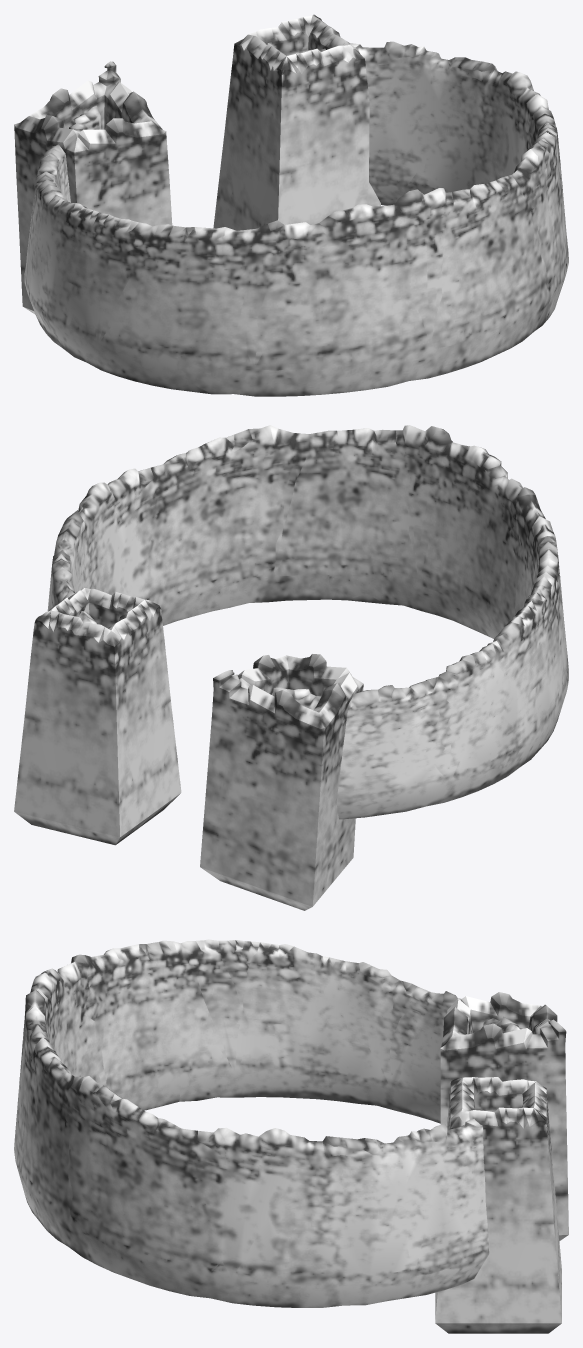
Rendered from Ruins_Tower02 1.fbx.
The picture shows the model from 3 angles, top to bottom: view 1: azimuth 30°, elevation 25°; view 2: azimuth 150°, elevation 25°; view 3: azimuth 270°, elevation 25°; orthographic projection. The views are drawn at different scales.
Visible parts, largest first — view 1: Ruins_Tower02_1, bridgetower009, bridgetower008; view 2: Ruins_Tower02_1, bridgetower009, bridgetower008; view 3: Ruins_Tower02_1, bridgetower009, bridgetower008.
Boxes of the visible parts, x1=… form: Ruins_Tower02_1: x1=24, y1=41, x2=568, y2=396; bridgetower009: x1=213, y1=14, x2=380, y2=230; bridgetower008: x1=14, y1=61, x2=172, y2=314; Ruins_Tower02_1: x1=47, y1=425, x2=568, y2=819; bridgetower009: x1=14, y1=587, x2=181, y2=845; bridgetower008: x1=200, y1=654, x2=363, y2=910; Ruins_Tower02_1: x1=14, y1=939, x2=521, y2=1307; bridgetower009: x1=435, y1=1077, x2=561, y2=1333; bridgetower008: x1=440, y1=992, x2=568, y2=1240.
Bounding box in the file's own units: 996 × 577 × 1013.
